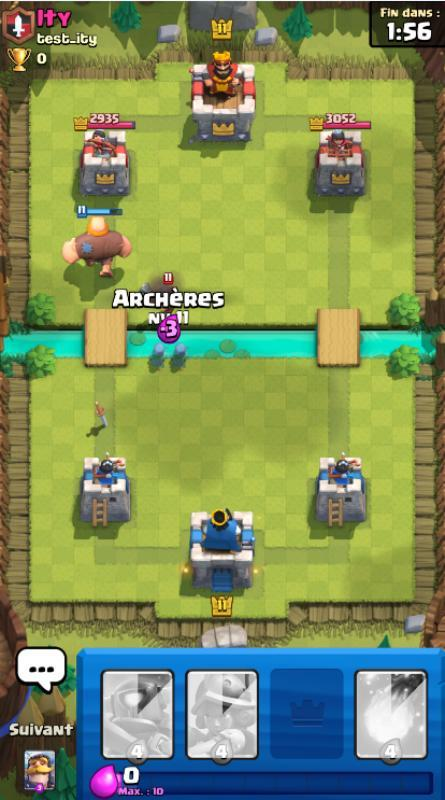archere: (170, 342, 192, 371), (147, 342, 167, 370)
geant: (62, 204, 131, 277)
mousquetaire: (139, 273, 175, 315)
